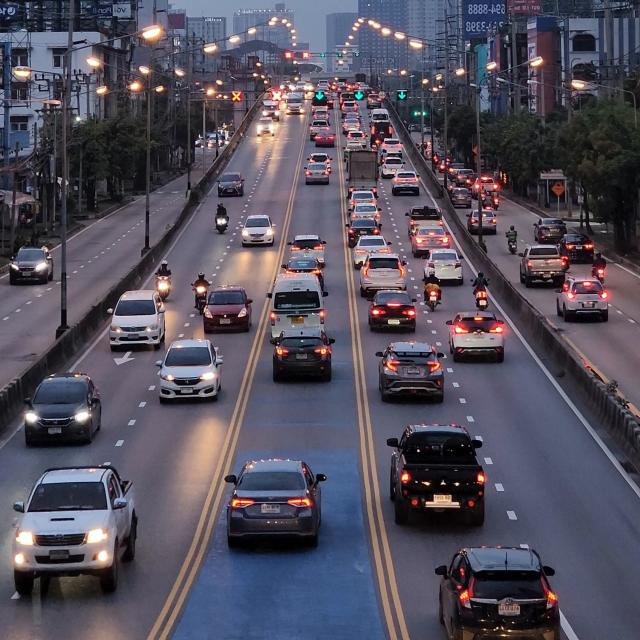Car: (11, 465, 143, 597), (431, 543, 561, 640), (386, 424, 485, 534), (223, 454, 328, 552), (20, 371, 100, 449), (374, 343, 448, 403), (156, 338, 222, 403), (262, 275, 323, 342), (106, 288, 165, 350), (446, 311, 504, 364), (270, 335, 332, 383), (5, 242, 56, 292), (352, 254, 409, 297), (197, 287, 249, 333), (365, 287, 415, 334), (555, 277, 605, 321), (513, 243, 566, 284), (423, 252, 465, 290)
